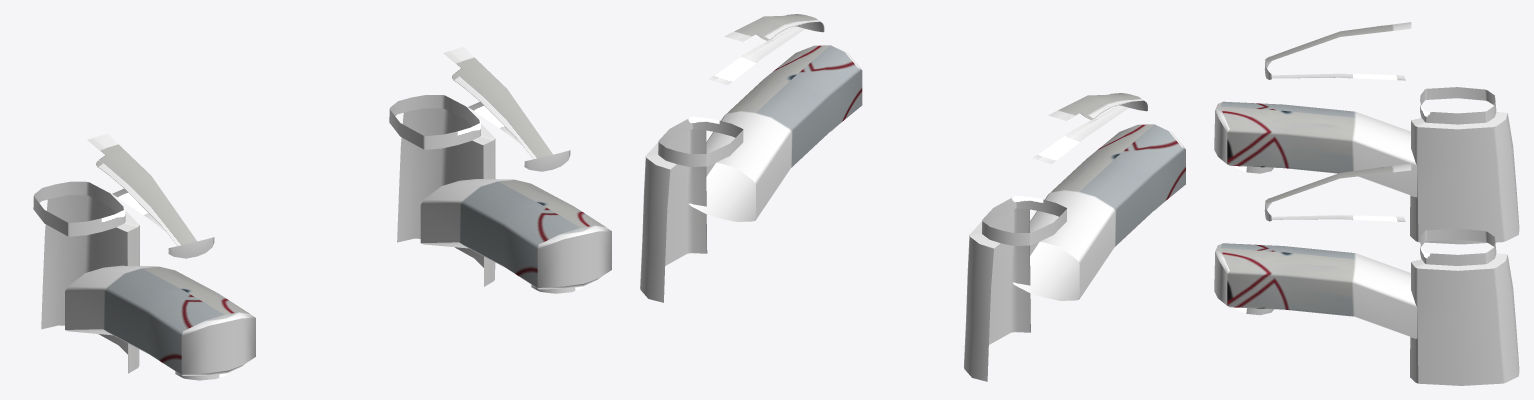
File: HDB_Bathroom_TapNew.fbx
3 renders of one model, left to right at view 1: azimuth 30°, elevation 25°; view 2: azimuth 150°, elevation 25°; view 3: azimuth 270°, elevation 25°, orthographic. The views are drawn at different scales.
Parts seen in each view (by area): view 1: polySurface5, polySurface7, polySurface6, polySurface2; view 2: polySurface7, polySurface5, polySurface6, polySurface2; view 3: polySurface7, polySurface5, polySurface6, polySurface2.
Boxes of the visible parts, x1,y1,x2,y2 form: polySurface5: (33,181,255,380); polySurface7: (389,95,611,293); polySurface6: (443,47,570,171); polySurface2: (88,133,214,258); polySurface7: (640,45,862,302); polySurface5: (964,124,1185,381); polySurface6: (709,14,824,84); polySurface2: (1033,93,1147,164); polySurface7: (1214,228,1519,385); polySurface5: (1214,87,1519,244); polySurface6: (1264,163,1411,221); polySurface2: (1264,22,1411,80).
Size of the model in its own units: 25.54 by 13.69 by 18.52.
